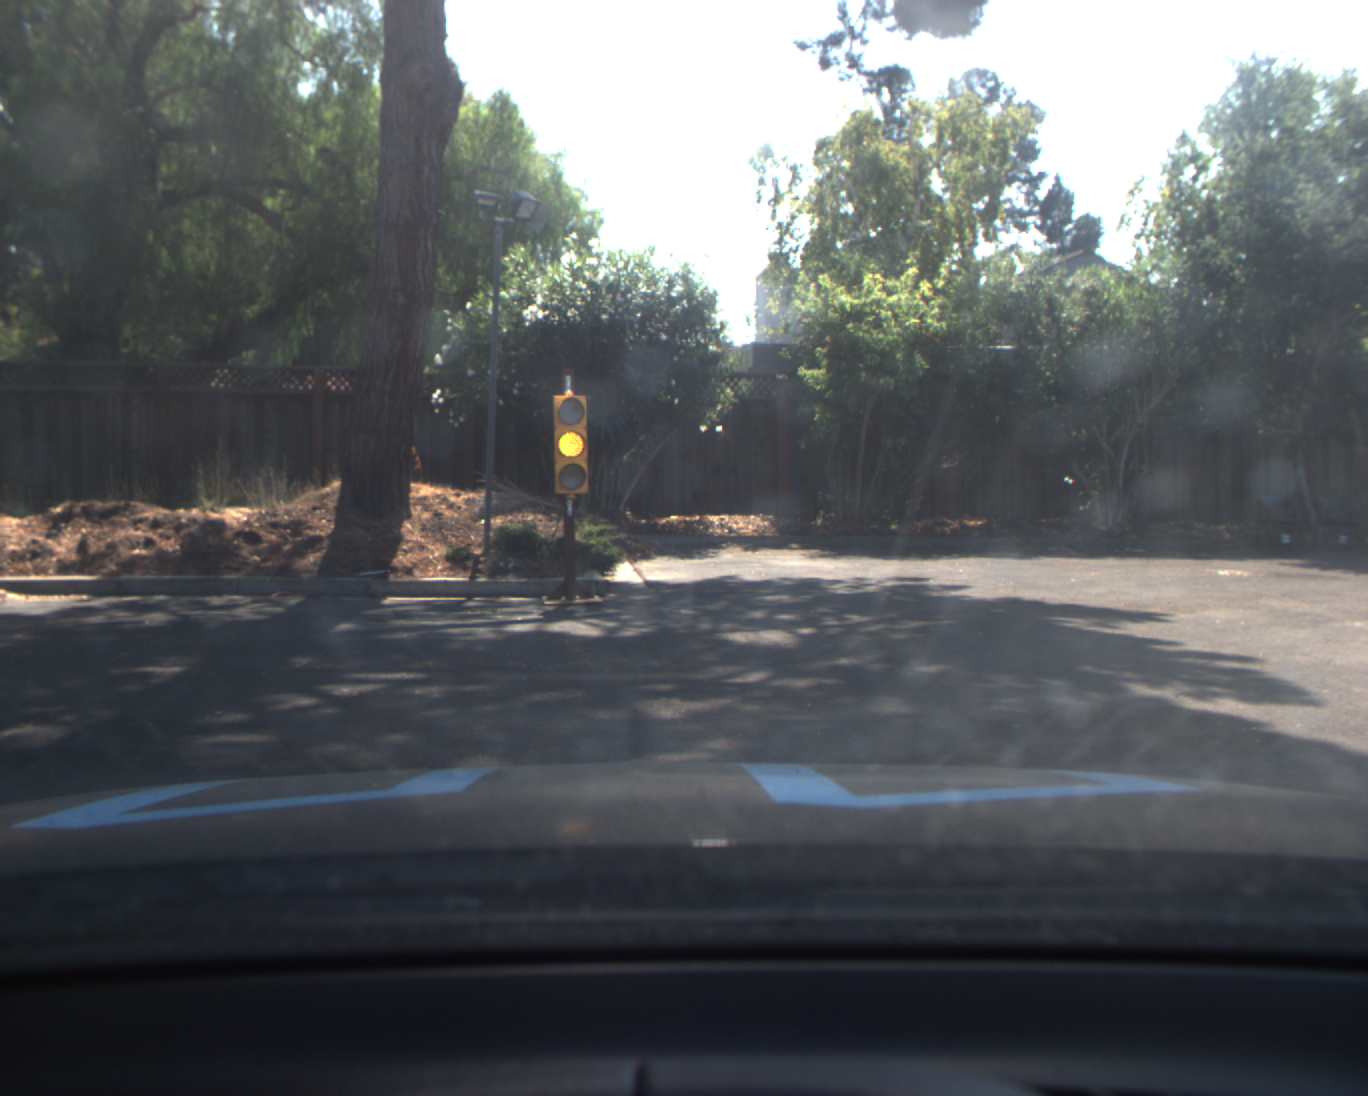yellow: (551, 390, 592, 499)
